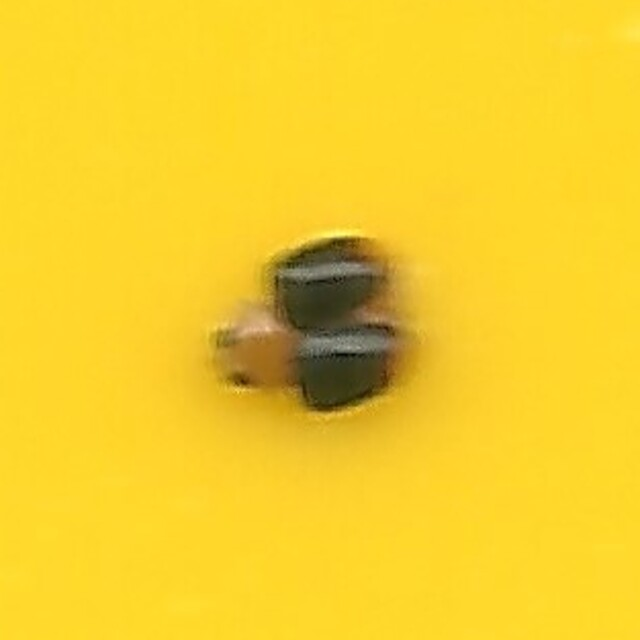Coleoptera: (204, 222, 436, 418)
